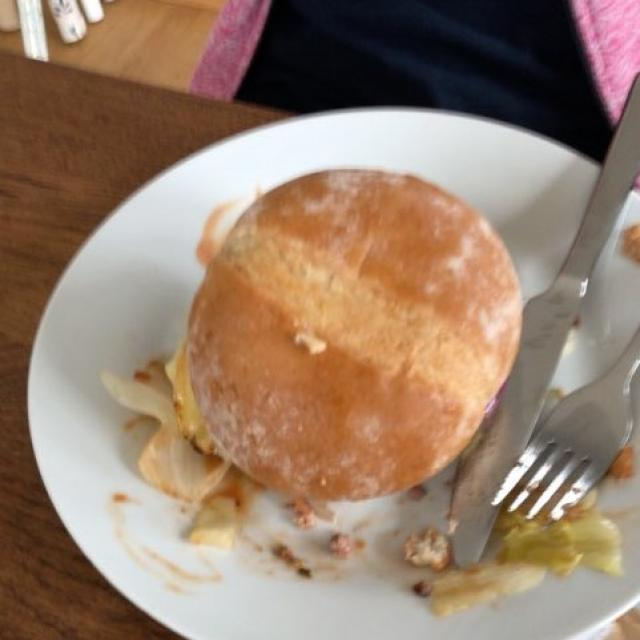bun: (181, 179, 508, 504)
onion: (100, 365, 232, 550)
